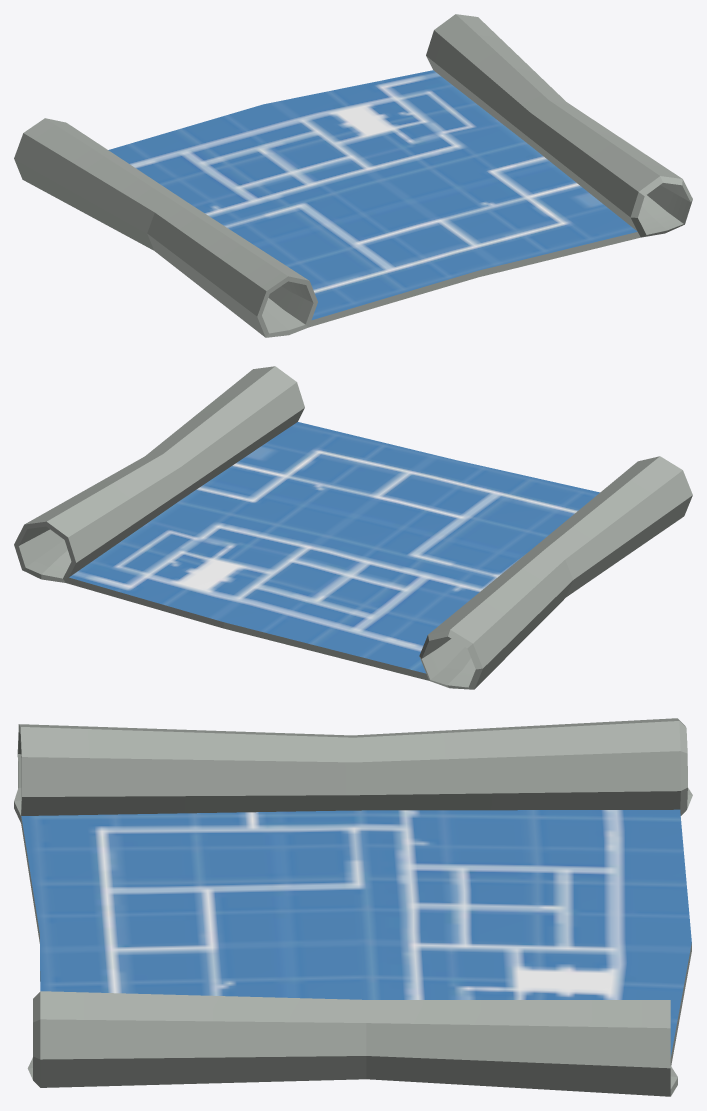
The model's file is SM_Prop_Plans_05.obj.
3 renders of one model, top to bottom at view 1: azimuth 30°, elevation 25°; view 2: azimuth 150°, elevation 25°; view 3: azimuth 270°, elevation 25°, orthographic. The views are drawn at different scales.
Parts seen in each view (by area): view 1: SM_Prop_Plans_05_0; view 2: SM_Prop_Plans_05_0; view 3: SM_Prop_Plans_05_0.
Part boxes in pixels (x1,y1,x2,y2): SM_Prop_Plans_05_0: (14,14,692,337); SM_Prop_Plans_05_0: (14,366,692,689); SM_Prop_Plans_05_0: (14,718,692,1096).
Size of the model in its own units: 0.8002 by 0.1029 by 0.6861.
Materials: 1 (1 with a texture image).
